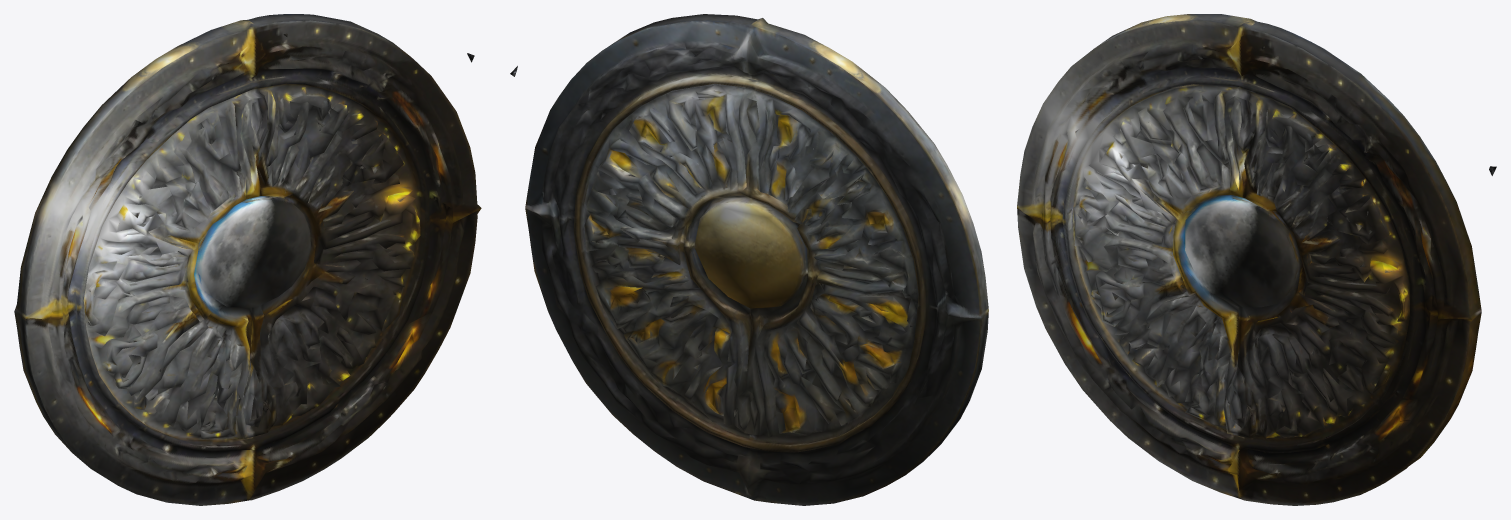
Rendered from Burkut shield.fbx.
3 renders of one model, left to right at view 1: azimuth 30°, elevation 25°; view 2: azimuth 150°, elevation 25°; view 3: azimuth 330°, elevation 25°, orthographic.
Parts seen in each view (by area): view 1: Mesh1_Mesh1.050; view 2: Mesh1_Mesh1.050; view 3: Mesh1_Mesh1.050.
Part boxes in pixels (bbox=[...]): Mesh1_Mesh1.050: bbox=[14, 14, 481, 505]; Mesh1_Mesh1.050: bbox=[510, 14, 988, 505]; Mesh1_Mesh1.050: bbox=[1017, 14, 1496, 505].
Size of the model in its own units: 203 by 200 by 20.67.
1 material, 1 textured.
